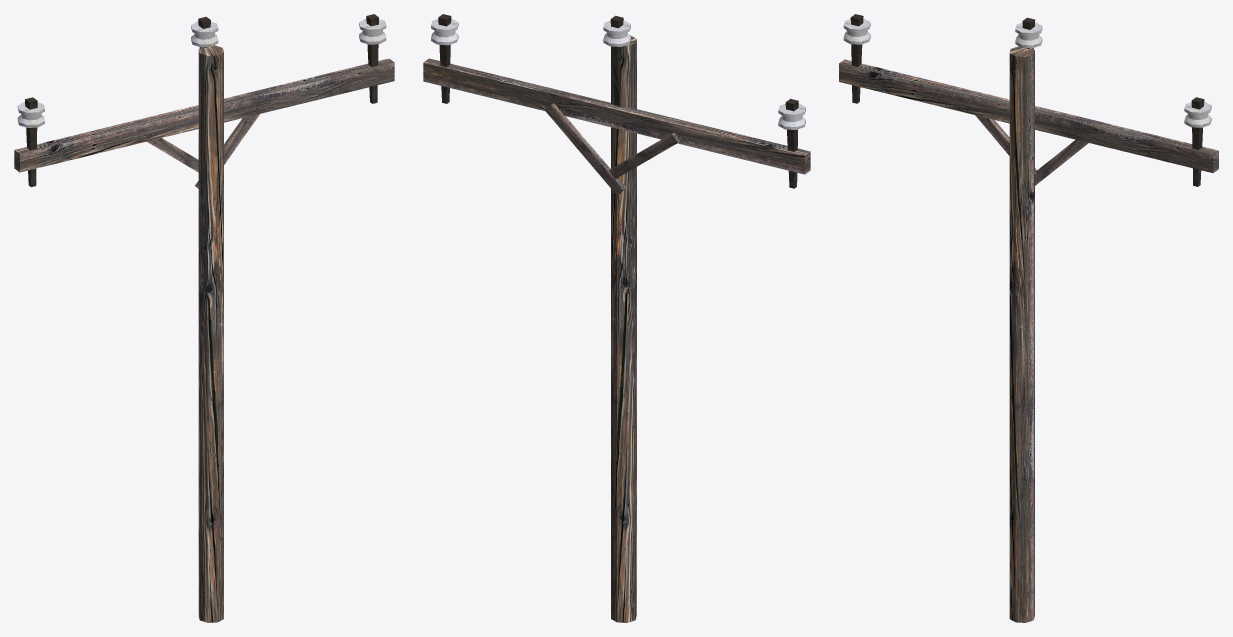
File: pole_03.fbx
3 views of the same model, side by side, from view 1: azimuth 30°, elevation 25°; view 2: azimuth 150°, elevation 25°; view 3: azimuth 330°, elevation 25° (orthographic).
Visible parts, largest first — view 1: pole_03; view 2: pole_03; view 3: pole_03.
Boxes of the visible parts, <box> form: pole_03: <box>14,14,394,622</box>; pole_03: <box>423,14,810,622</box>; pole_03: <box>839,14,1218,622</box>.
Size of the model in its own units: 5.25 by 7.94 by 0.5071.
